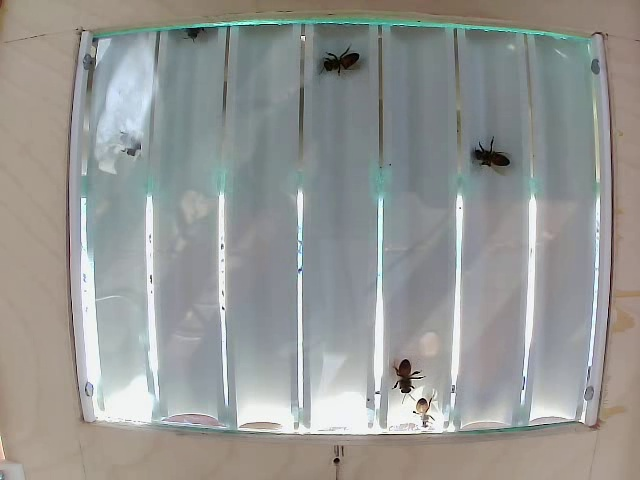bee: (474, 131, 509, 175), (401, 389, 437, 429), (108, 124, 146, 157), (388, 355, 416, 399), (327, 50, 361, 84), (186, 18, 208, 52)
